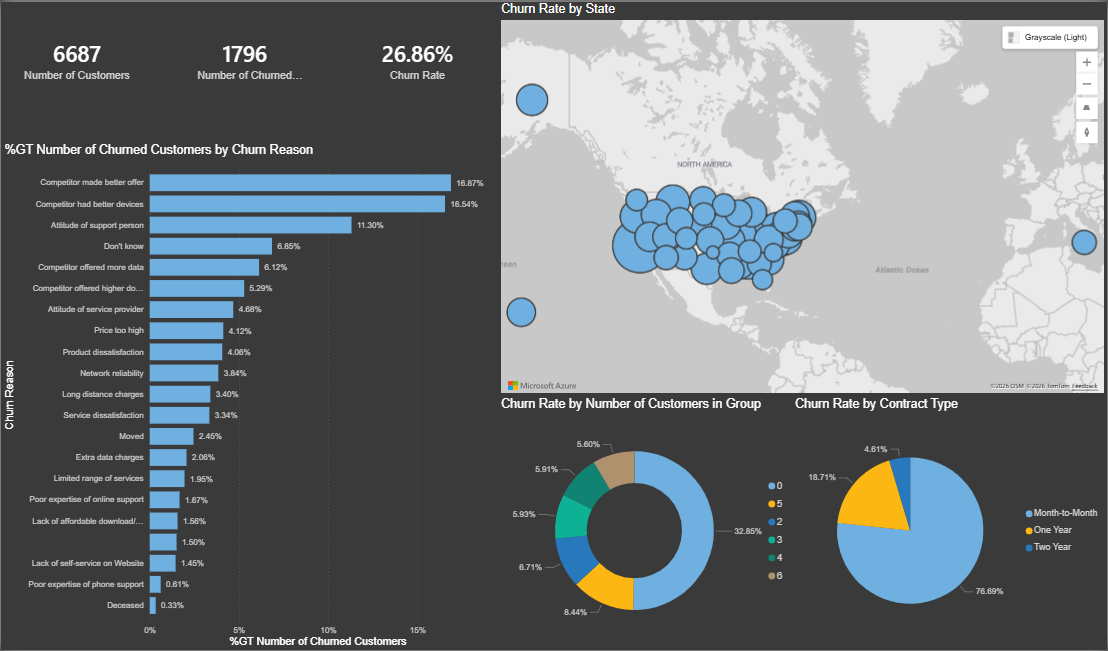

The page's visual inventory and layout, read from the dashboard file:
{"tool":"powerbi","page":{"name":"Overview","canvas":[1640,960],"ordinal":0},"visuals":[{"type":"cardVisual","fields":{"Data":["Databel - Data.Number of Customers"]},"box":[0,0,224,208],"z":0},{"type":"cardVisual","fields":{"Data":["Databel - Data.Churn Rate"]},"box":[444,0,198,208],"z":1000},{"type":"cardVisual","fields":{"Data":["Databel - Data.Number of Churned Customers"]},"box":[224,0,220,208],"z":2000},{"type":"clusteredBarChart","fields":{"Y":["Databel - Data.Number of Churned Customers"],"Category":["Databel - Data.Churn Reason"]},"box":[0,208,736,752],"z":3000},{"type":"donutChart","fields":{"Y":["Databel - Data.Churn Rate"],"Category":["Databel - Data.Number of Customers in Group"]},"box":[736,584,436,376],"z":4000},{"type":"pieChart","fields":{"Category":["Databel - Data.Contract Type"],"Y":["Databel - Data.Number of Customers"]},"box":[1172,584,468,376],"z":5000},{"type":"azureMap","fields":{"Category":["Databel - Data.State"],"Size":["Databel - Data.Churn Rate"]},"box":[736,0,904,584],"z":6000}]}

Visuals, with their boxes in screenshot pixels (x1, y1, x2, y2), scaled from the page's 1640x960 canvas onto the 1108x651 screenshot:
cardVisual - Databel - Data.Number of Customers: 0:0:151:141
cardVisual - Databel - Data.Churn Rate: 300:0:434:141
cardVisual - Databel - Data.Number of Churned Customers: 151:0:300:141
clusteredBarChart - Databel - Data.Number of Churned Customers x Databel - Data.Churn Reason: 0:141:497:650
donutChart - Databel - Data.Churn Rate x Databel - Data.Number of Customers in Group: 497:396:792:650
pieChart - Databel - Data.Contract Type x Databel - Data.Number of Customers: 792:396:1107:650
azureMap - Databel - Data.State x Databel - Data.Churn Rate: 497:0:1107:396
